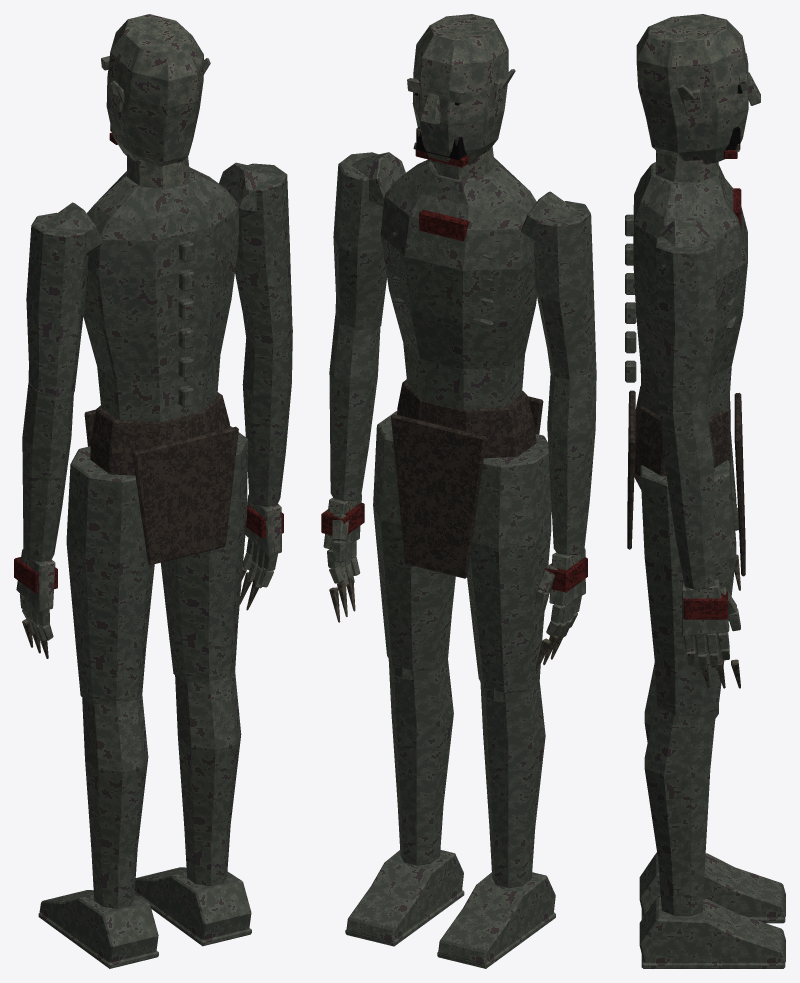
File: ghul.glb
3 renders of one model, left to right at view 1: azimuth 30°, elevation 25°; view 2: azimuth 150°, elevation 25°; view 3: azimuth 270°, elevation 25°, orthographic.
Visible parts, largest first — view 1: tors, udo_l, miednica, glowa, golen_l, golen_p, udo_p, ramie_l, ramie_p, przedramie_l, przedramie_p, stopa_l (+3 smaller); view 2: tors, udo_l, miednica, glowa, udo_p, golen_l, golen_p, ramie_l, ramie_p, przedramie_l, przedramie_p, stopa_p (+3 smaller); view 3: glowa, tors, udo_p, golen_p, ramie_p, stopa_p, przedramie_p, miednica, stopa_l, dlon_p, golen_l.
Part boxes in pixels (x1,y1,x2,y2): tors: (83, 167, 238, 421); udo_l: (66, 446, 154, 705); miednica: (84, 392, 238, 564); glowa: (101, 14, 210, 189); golen_l: (82, 693, 148, 908); golen_p: (175, 670, 241, 885); udo_p: (160, 426, 247, 683); ramie_l: (26, 202, 102, 401); ramie_p: (219, 162, 292, 348); przedramie_l: (22, 383, 73, 562); przedramie_p: (242, 329, 292, 507); stopa_l: (38, 890, 158, 968); tors: (380, 157, 536, 410); udo_l: (467, 434, 551, 702); miednica: (391, 379, 543, 578); glowa: (407, 14, 515, 179); udo_p: (373, 411, 455, 679); golen_l: (480, 681, 545, 888); golen_p: (388, 659, 453, 865); ramie_l: (521, 191, 596, 379); ramie_p: (333, 152, 405, 332); przedramie_l: (547, 369, 596, 555); przedramie_p: (329, 314, 380, 501); stopa_p: (345, 850, 464, 946); glowa: (636, 14, 760, 182); tors: (625, 162, 747, 418); udo_p: (640, 460, 736, 718); golen_p: (644, 698, 716, 916); ramie_p: (656, 220, 717, 419); stopa_p: (639, 897, 785, 968); przedramie_p: (660, 405, 714, 589); miednica: (627, 386, 745, 576); stopa_l: (639, 852, 785, 923); dlon_p: (682, 579, 740, 688); golen_l: (644, 662, 656, 741).
Size of the model in its own units: 0.5421 by 1.81 by 0.2893.
Materials: 6 (6 with a texture image).
